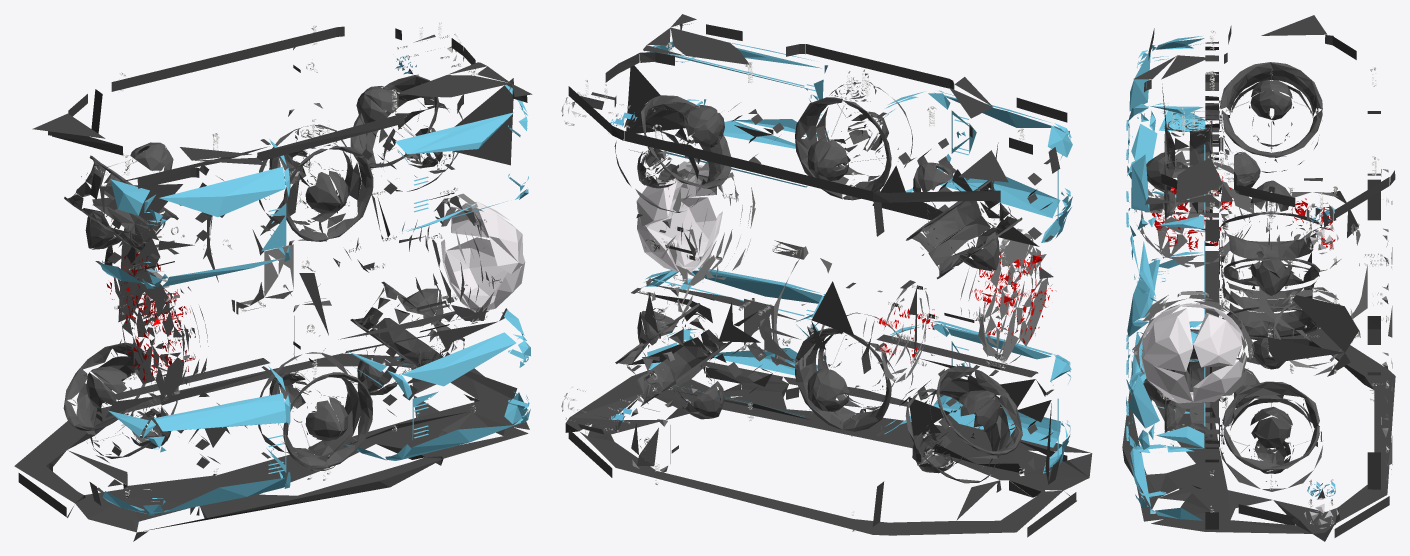
Rendered from bluerov2.glb.
3 renders of one model, left to right at view 1: azimuth 30°, elevation 25°; view 2: azimuth 150°, elevation 25°; view 3: azimuth 270°, elevation 25°, orthographic. The views are drawn at different scales.
Visible parts, largest first — view 1: part_16_16_16, part_24_24_24, part_40_152_208, part_216_208_216, part_72_72_72, part_64_64_64, part_168_168_160, part_255_0_0; view 2: part_16_16_16, part_24_24_24, part_40_152_208, part_72_72_72, part_216_208_216, part_64_64_64, part_48_48_48, part_168_168_160, part_255_0_0; view 3: part_16_16_16, part_24_24_24, part_40_152_208, part_216_208_216, part_72_72_72, part_168_168_160, part_255_0_0, part_64_64_64, part_48_48_48.
Part boxes in pixels (x1,y1,x2,y2): part_16_16_16: (14, 26, 532, 541); part_24_24_24: (63, 75, 464, 470); part_40_152_208: (100, 84, 530, 515); part_216_208_216: (441, 34, 525, 351); part_72_72_72: (112, 180, 498, 401); part_64_64_64: (118, 214, 293, 351); part_168_168_160: (102, 22, 502, 497); part_255_0_0: (106, 252, 195, 381); part_16_16_16: (565, 14, 1092, 537); part_24_24_24: (614, 80, 1022, 483); part_40_152_208: (634, 41, 1072, 473); part_72_72_72: (647, 158, 1047, 382); part_216_208_216: (561, 97, 723, 420); part_64_64_64: (744, 240, 1053, 369); part_48_48_48: (631, 151, 813, 472); part_168_168_160: (565, 42, 1037, 531); part_255_0_0: (877, 254, 1056, 363); part_16_16_16: (1122, 15, 1395, 541); part_24_24_24: (1143, 62, 1322, 491); part_40_152_208: (1126, 36, 1205, 520); part_216_208_216: (1141, 223, 1338, 529); part_72_72_72: (1132, 148, 1360, 408); part_168_168_160: (1133, 30, 1389, 524); part_255_0_0: (1151, 167, 1335, 251); part_64_64_64: (1151, 188, 1367, 341); part_48_48_48: (1381, 169, 1392, 480).
Bounding box in the file's own units: 0.4574 × 0.3442 × 0.255.
